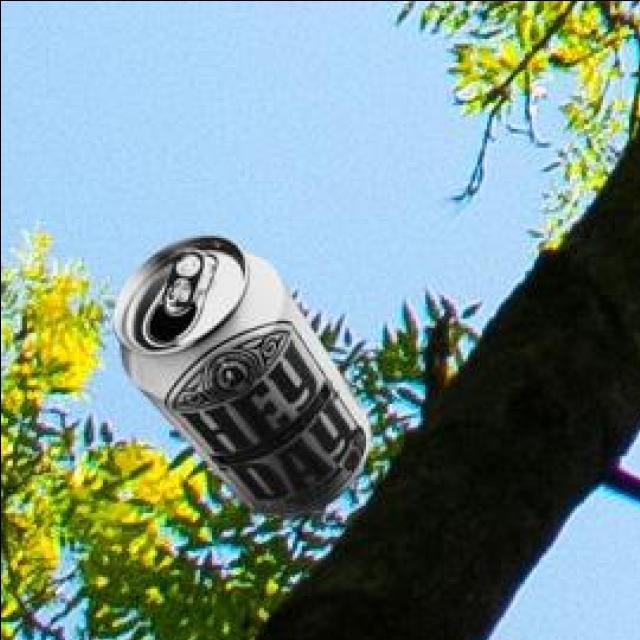logam: (117, 238, 373, 520)
